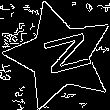N_W: (29, 30, 90, 82)
